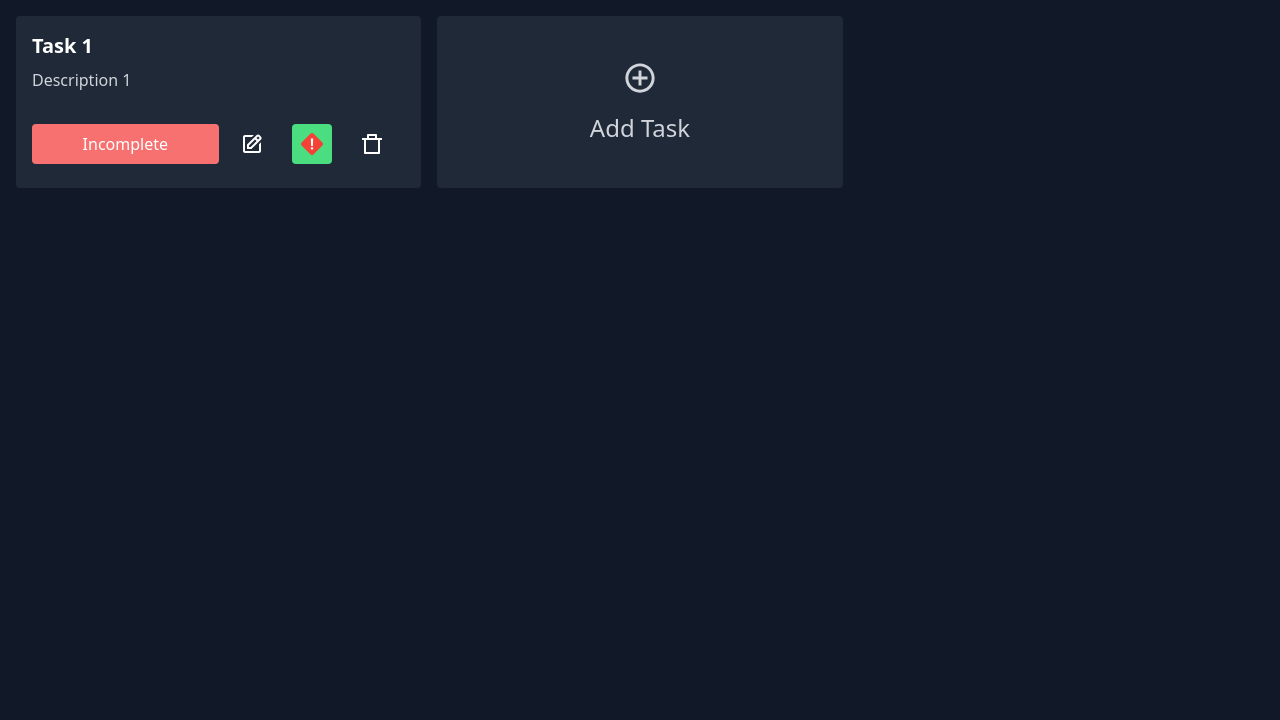
Test: Cards Component › displays task details on click
What coordinates should you click on to do the following:
click the heading "Task 1"
I would click on:
 (62, 46)
Its box is [32,32,93,59].
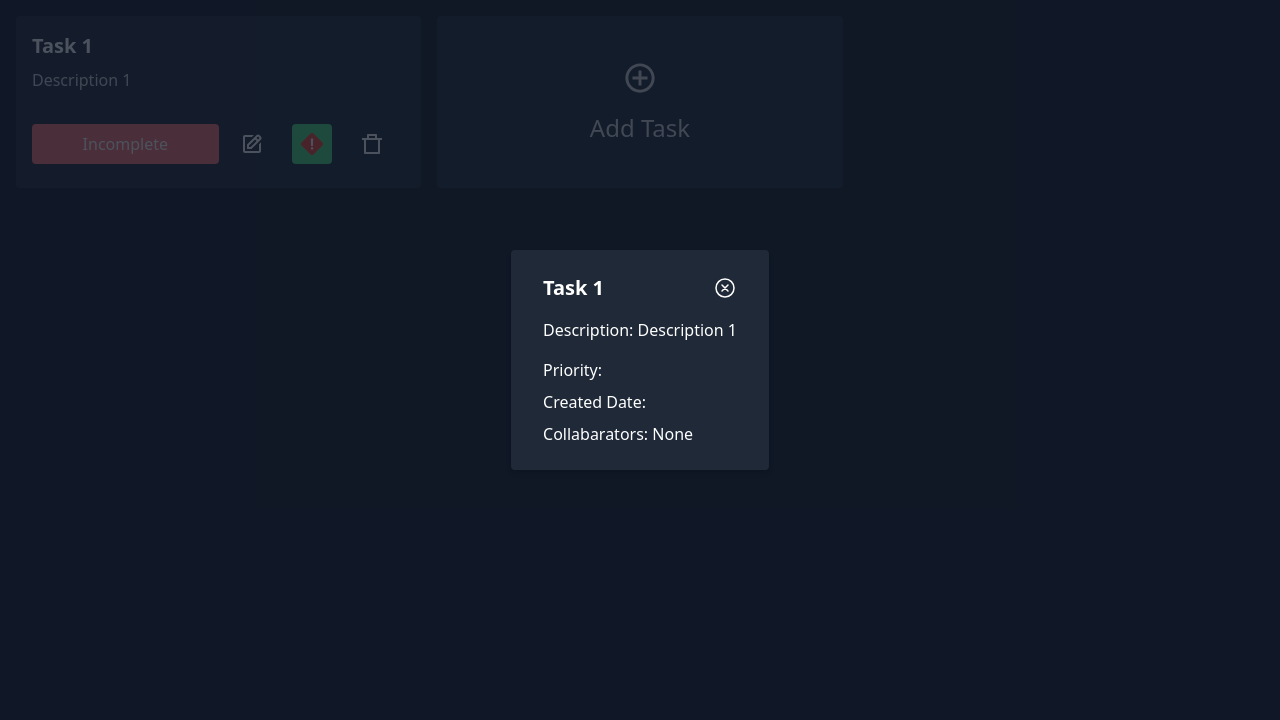
Expected: the text "Description: Description 1" is shown, [543,318,737,342]
